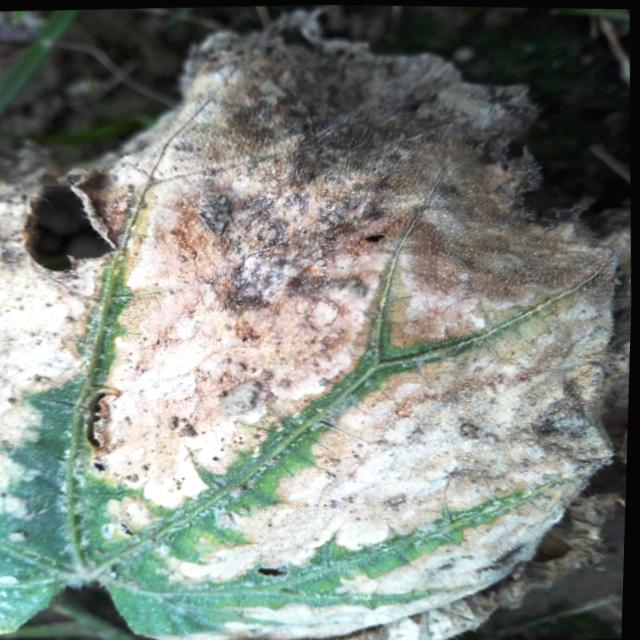Gummy-Stem-Blight: (0, 5, 631, 640)
